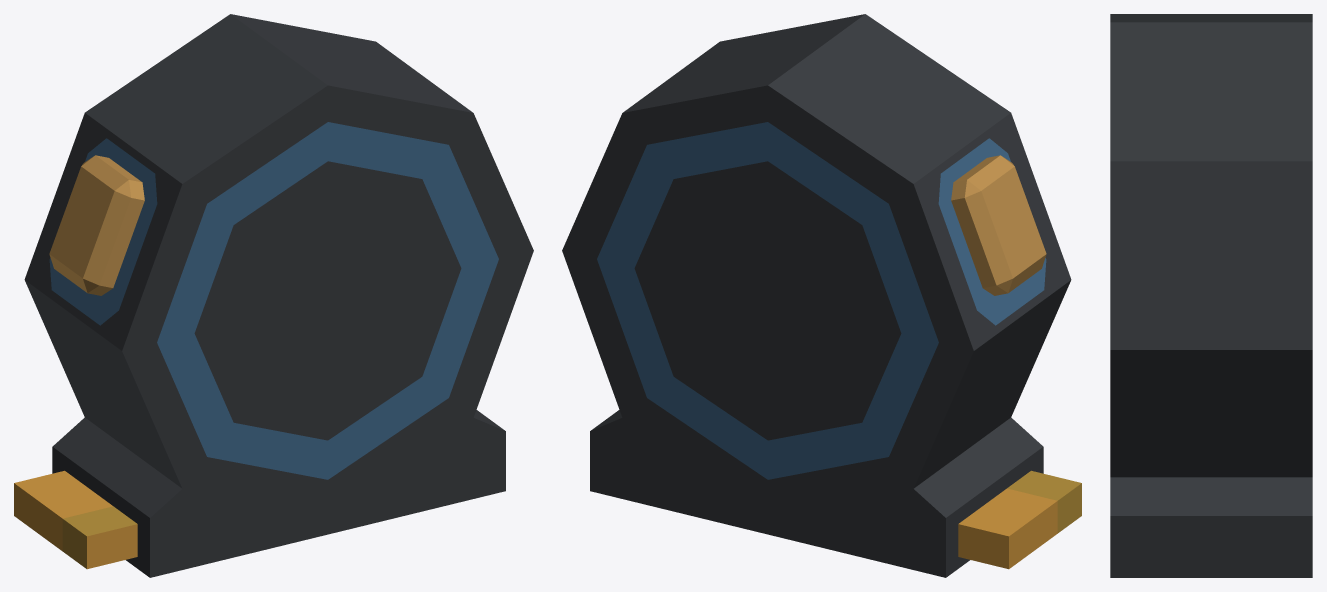
File: SM_Tool_Tape_Measure_01.fbx
The picture shows the model from 3 angles, left to right: view 1: azimuth 30°, elevation 25°; view 2: azimuth 150°, elevation 25°; view 3: azimuth 270°, elevation 25°; orthographic projection. The views are drawn at different scales.
Visible parts, largest first — view 1: SM_Tool_Tape_Measure_01, SM_Tool_Tape_Measure_01_Tape; view 2: SM_Tool_Tape_Measure_01, SM_Tool_Tape_Measure_01_Tape; view 3: SM_Tool_Tape_Measure_01.
Part boxes in pixels (bbox=[...]): SM_Tool_Tape_Measure_01: bbox=[24, 14, 533, 577]; SM_Tool_Tape_Measure_01_Tape: bbox=[14, 470, 137, 569]; SM_Tool_Tape_Measure_01: bbox=[562, 14, 1071, 577]; SM_Tool_Tape_Measure_01_Tape: bbox=[958, 470, 1081, 569]; SM_Tool_Tape_Measure_01: bbox=[1110, 14, 1312, 577].
Size of the model in its own units: 17.53 by 17.31 by 6.82.
